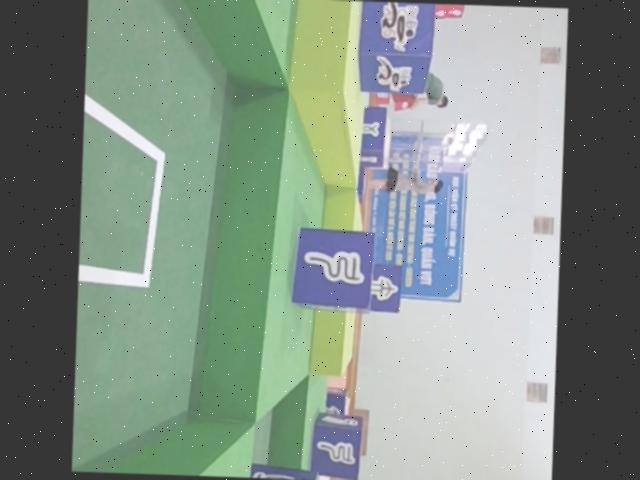R1 Blue: (357, 1, 437, 96)
R2 Fake Blue: (290, 225, 377, 311), (309, 414, 363, 480), (366, 262, 402, 313)
R2 Real Blue: (359, 108, 388, 171)
